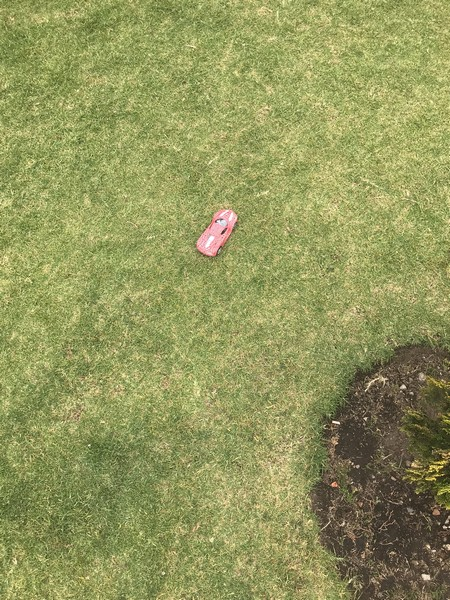RC: (193, 207, 239, 258)
